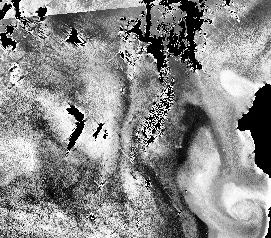CE: (216, 183, 267, 232)
